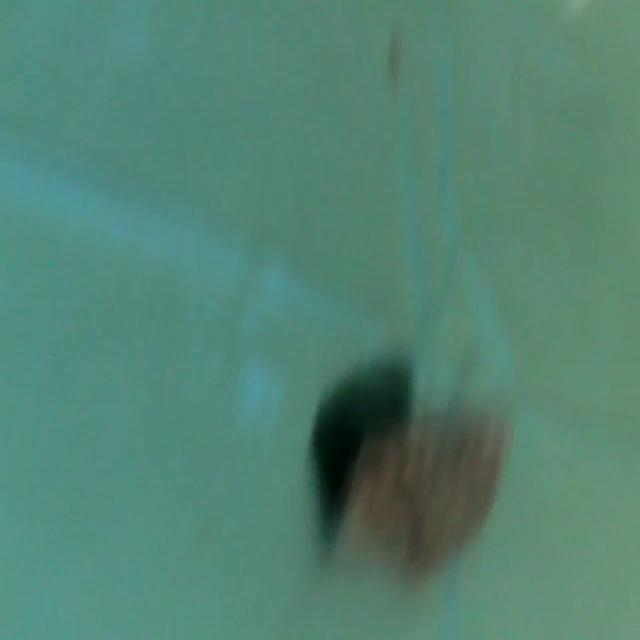rock: (336, 406, 515, 604)
